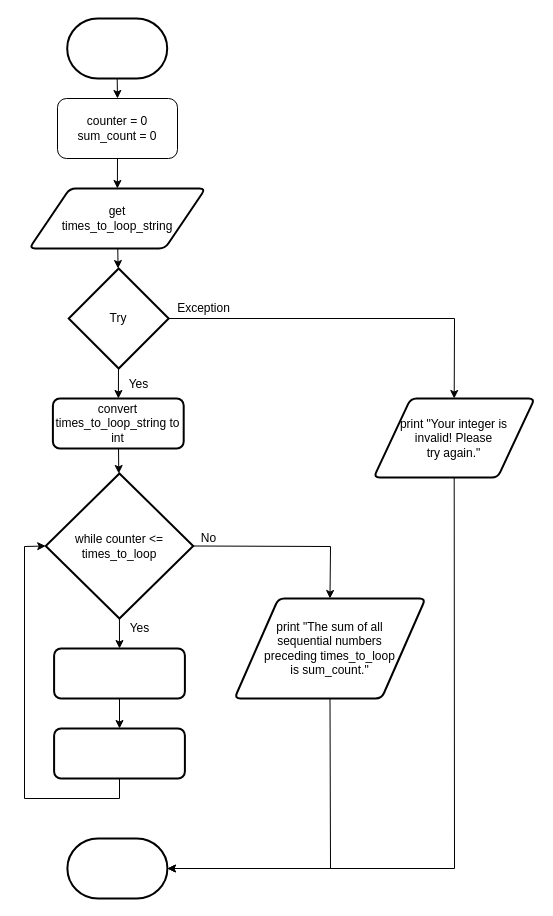
The diagram is 553 pixels wide and 916 high, and some of its shapes have lost their labels. Here are the shapes that lost their labels. From the top down, the centre of each, then its label:
[117,48]: Start
[119,673]: sum_count = sum_count + counter
[119,753]: counter = counter + 1
[117,868]: Stop
